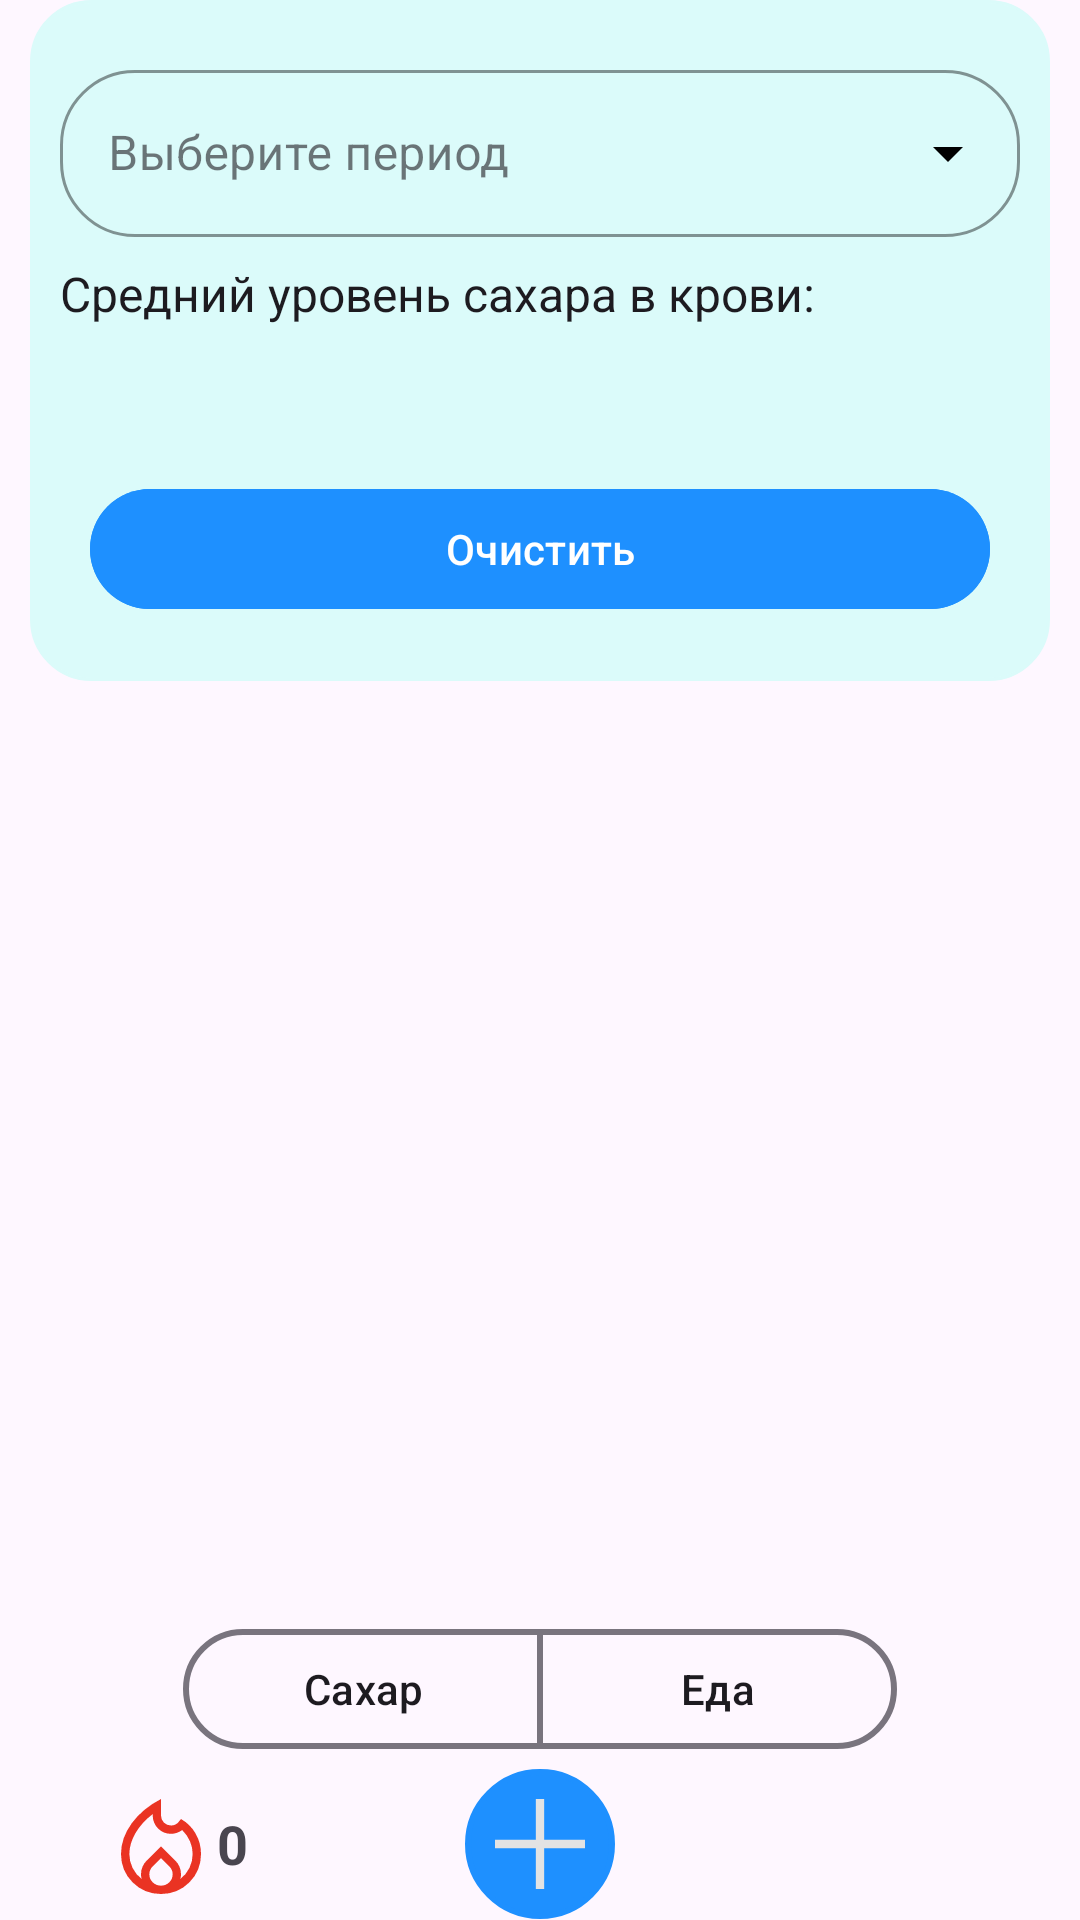

Locate icon controls on the screen. Image size 1080px x 1920px, boxes as (x1, y1, x2, y2).
plus: (465, 1769, 615, 1919)
sugar streak: (121, 1799, 201, 1894)
